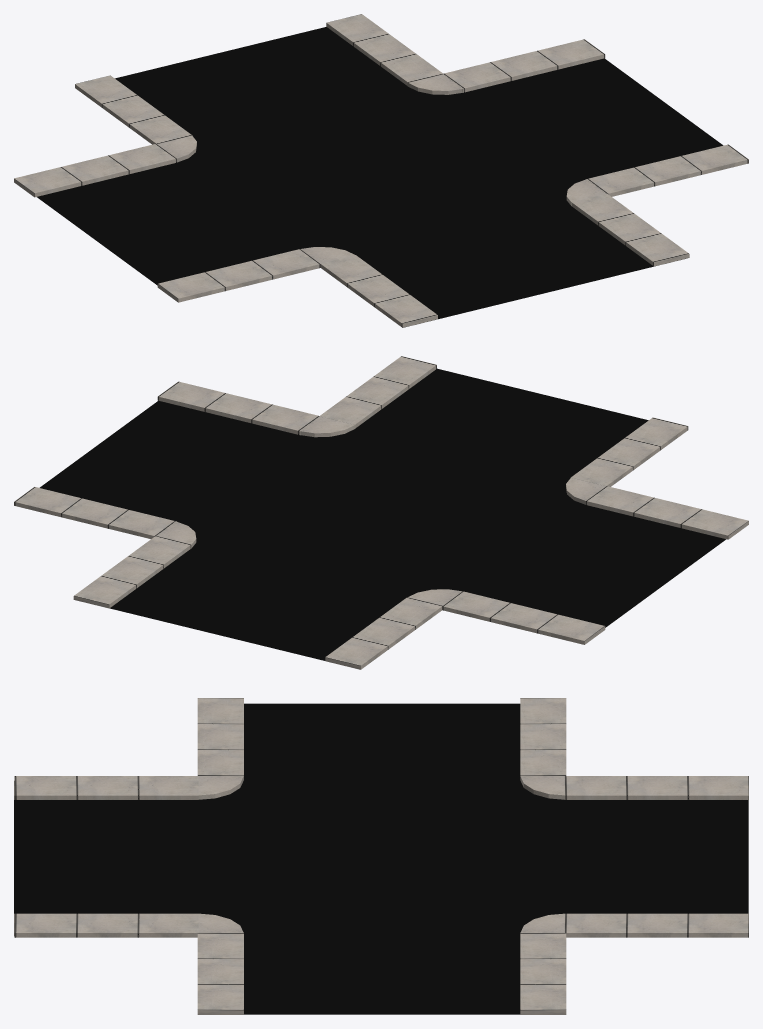
File: crossing.obj
The picture shows the model from 3 angles, top to bottom: view 1: azimuth 30°, elevation 25°; view 2: azimuth 150°, elevation 25°; view 3: azimuth 270°, elevation 25°; orthographic projection. The views are drawn at different scales.
Visible parts, largest first — view 1: rua_Plane.003, rua.003_Plane.006, rua.004_Plane.009, rua.002_Plane.004, rua.001_Plane.003, calsada.001_Plane.000, calsada.002_Plane.005, calsada.003_Plane.007, calsada.000_Plane.008, Circle.002; view 2: rua_Plane.003, rua.004_Plane.009, rua.003_Plane.006, rua.002_Plane.004, rua.001_Plane.003, calsada.001_Plane.000, calsada.002_Plane.005, calsada.000_Plane.008, calsada.003_Plane.007, Circle.002; view 3: rua_Plane.003, rua.002_Plane.004, rua.001_Plane.003, rua.004_Plane.009, rua.003_Plane.006, calsada.003_Plane.007, calsada.000_Plane.008, calsada.002_Plane.005, calsada.001_Plane.000, Circle.002.
Part boxes in pixels (x1,y1,x2,y2): rua_Plane.003: [178, 86, 581, 257]; rua.003_Plane.006: [360, 206, 685, 327]; rua.004_Plane.009: [115, 27, 407, 138]; rua.002_Plane.004: [463, 58, 723, 180]; rua.001_Plane.003: [37, 162, 296, 285]; calsada.001_Plane.000: [14, 143, 320, 302]; calsada.002_Plane.005: [443, 39, 748, 196]; calsada.003_Plane.007: [320, 193, 689, 327]; calsada.000_Plane.008: [75, 14, 442, 144]; Circle.002: [157, 74, 605, 263]; rua_Plane.003: [181, 429, 584, 599]; rua.004_Plane.009: [110, 548, 402, 660]; rua.003_Plane.006: [355, 368, 648, 480]; rua.002_Plane.004: [39, 400, 299, 522]; rua.001_Plane.003: [466, 504, 725, 627]; calsada.001_Plane.000: [442, 486, 748, 644]; calsada.002_Plane.005: [14, 381, 320, 538]; calsada.000_Plane.008: [73, 536, 442, 669]; calsada.003_Plane.007: [319, 356, 688, 486]; Circle.002: [157, 416, 605, 605]; rua_Plane.003: [197, 781, 565, 936]; rua.002_Plane.004: [244, 936, 520, 1014]; rua.001_Plane.003: [243, 703, 520, 781]; rua.004_Plane.009: [564, 800, 748, 913]; rua.003_Plane.006: [14, 781, 198, 935]; calsada.003_Plane.007: [14, 776, 198, 937]; calsada.000_Plane.008: [564, 776, 748, 937]; calsada.002_Plane.005: [197, 932, 566, 1014]; calsada.001_Plane.000: [197, 698, 566, 779]; Circle.002: [198, 776, 564, 932].
Bounding box in the file's own units: 32.08 × 0.2143 × 31.91.
